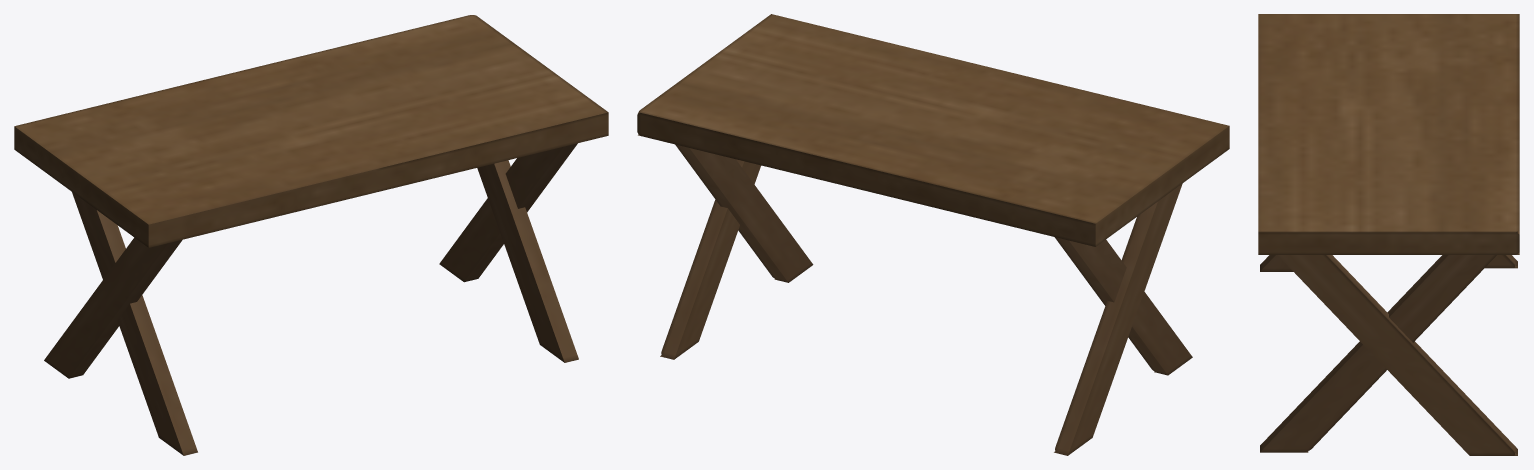
Rendered from wood_table.obj.
3 views of the same model, side by side, from view 1: azimuth 30°, elevation 25°; view 2: azimuth 150°, elevation 25°; view 3: azimuth 270°, elevation 25° (orthographic). The views are drawn at different scales.
Visible parts, largest first — view 1: bodyModel0, bodyModel4, bodyModel2, bodyModel3, bodyModel1; view 2: bodyModel0, bodyModel3, bodyModel2, bodyModel1, bodyModel4; view 3: bodyModel0, bodyModel1, bodyModel2, bodyModel4, bodyModel3.
Part boxes in pixels (bbox=[...]): bodyModel0: bbox=[14, 15, 608, 247]; bodyModel4: bbox=[72, 192, 197, 455]; bodyModel2: bbox=[477, 160, 578, 362]; bodyModel3: bbox=[44, 237, 182, 378]; bodyModel1: bbox=[439, 143, 577, 282]; bodyModel0: bbox=[637, 14, 1229, 246]; bodyModel3: bbox=[1054, 183, 1182, 455]; bodyModel2: bbox=[675, 144, 813, 282]; bodyModel1: bbox=[660, 159, 761, 359]; bodyModel4: bbox=[1054, 237, 1192, 375]; bodyModel0: bbox=[1258, 14, 1519, 254]; bodyModel1: bbox=[1278, 255, 1517, 455]; bodyModel2: bbox=[1260, 231, 1517, 452]; bodyModel4: bbox=[1260, 255, 1293, 271]; bodyModel3: bbox=[1485, 255, 1517, 268].
Size of the model in its own units: 2 by 1 by 1.01.
1 material, 1 textured.
